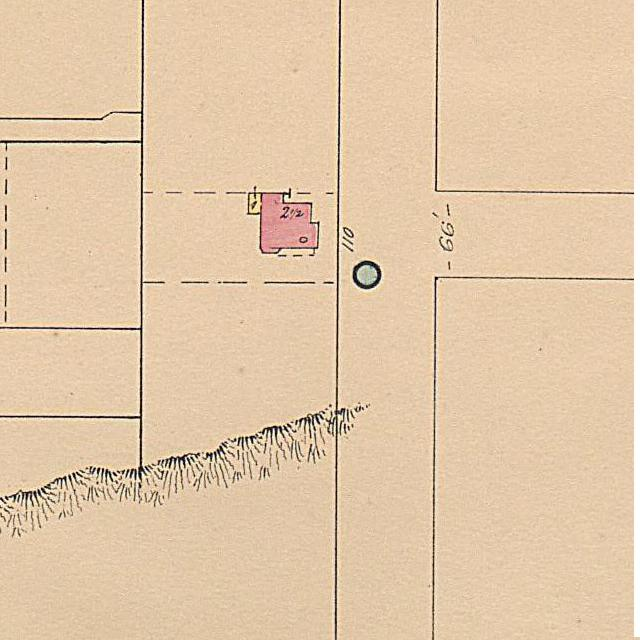building-footprints: (248, 193, 319, 253)
